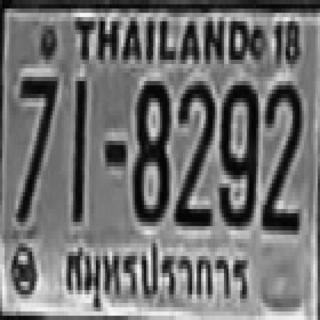N01: (71, 79, 85, 220)
N02: (261, 79, 299, 228), (174, 79, 213, 224)
N07: (16, 75, 55, 220)
N08: (130, 77, 169, 222)
N09: (217, 77, 256, 222)
P57: (58, 233, 252, 306)
